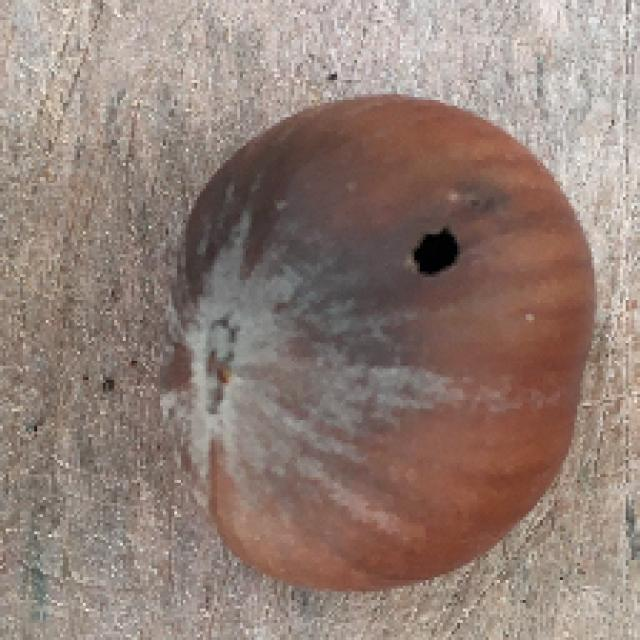DamagedHazelnut: (158, 98, 601, 590)
